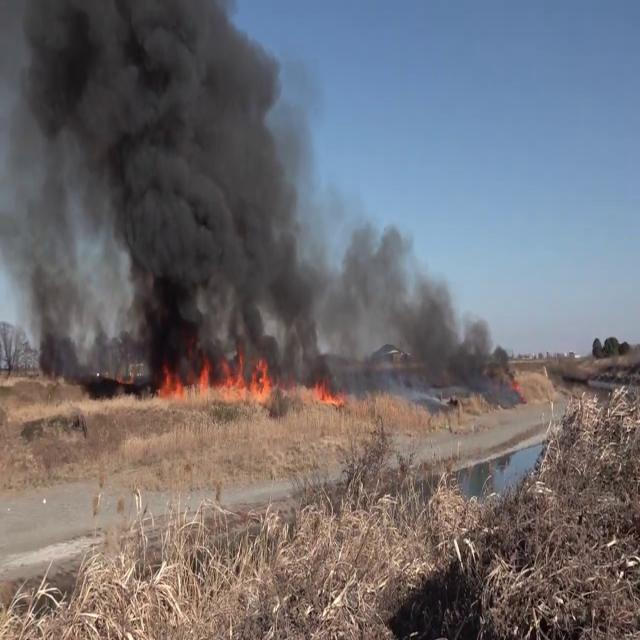Fire: (151, 337, 276, 404)
Smoke: (0, 0, 308, 370), (317, 210, 521, 397), (0, 6, 100, 368)
